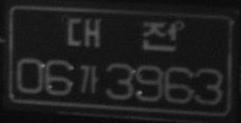0: (15, 56, 44, 94)
3: (194, 67, 224, 107), (105, 62, 134, 99)
6: (164, 66, 195, 104), (45, 59, 73, 97)
9: (135, 64, 164, 103)
가: (78, 63, 99, 94)
대전_D: (67, 16, 178, 51)
